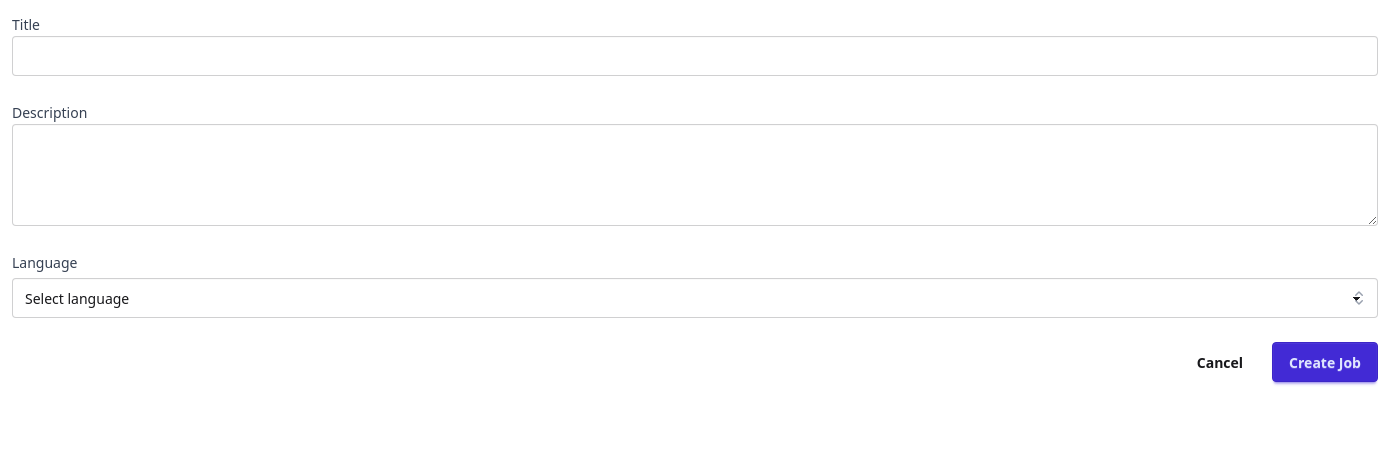
Test: JobForm › Accessibility › announces form errors with role="alert"
What coordinates should you click on to do the following:
click the button "Create Job"
I would click on:
 (1325, 362)
Its box is [1272,342,1378,382].
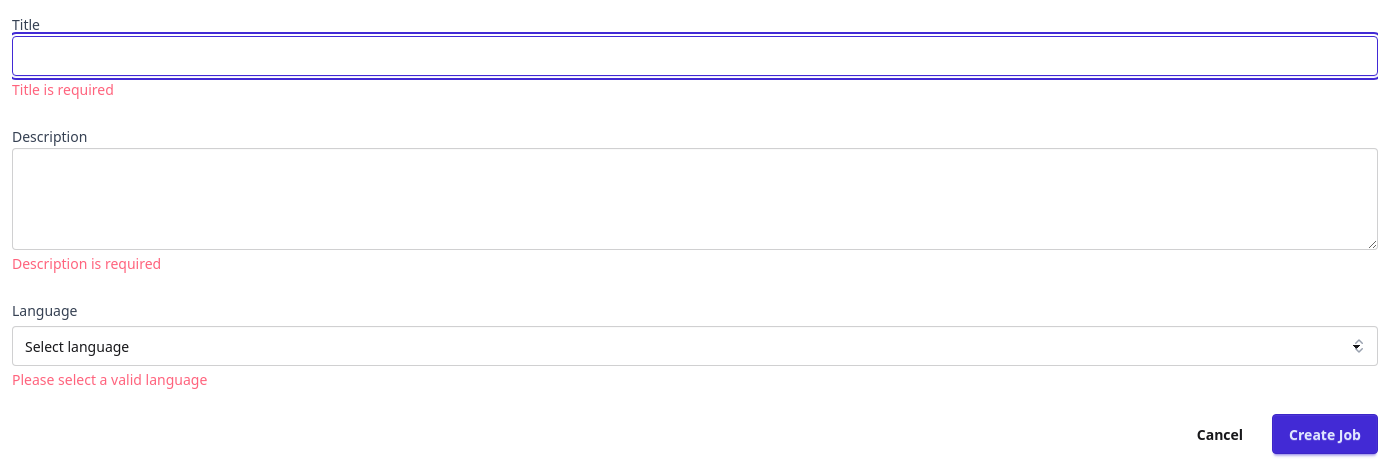
Result: the number of messages is 3 at [12,80,114,99]; [12,254,161,273]; [12,370,207,389]
